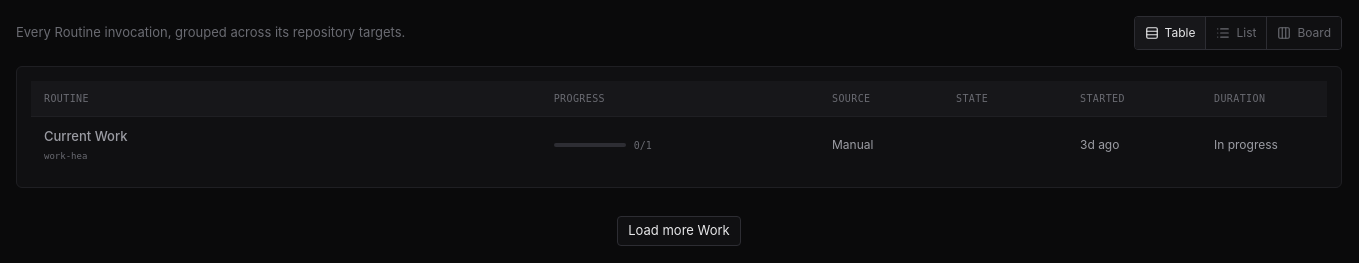
Test: RoutineWork › loads Work history one cursor-bounded page at a time
Expected: the text "Current Work" is shown, [44,128,127,144]
Expected: the text "Older Work" is not shown
Click the button "Load more Work" at (679, 231), box [617,216,741,246]
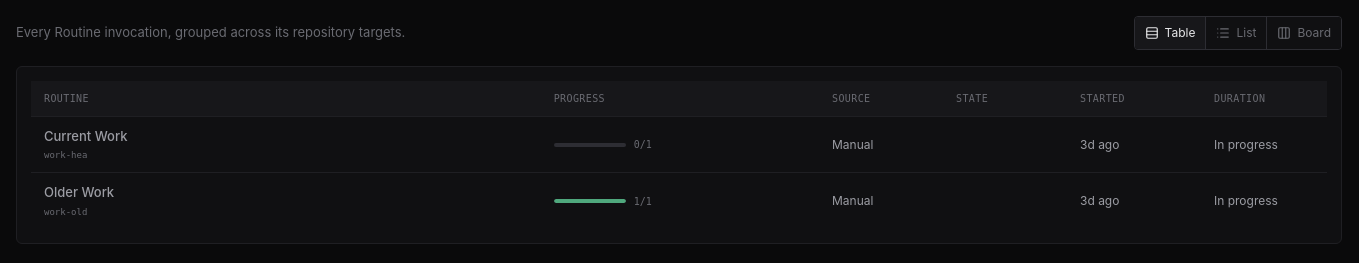
Now the text "Older Work" is shown, box [44,184,114,200]
Now the button "Load more Work" is gone
